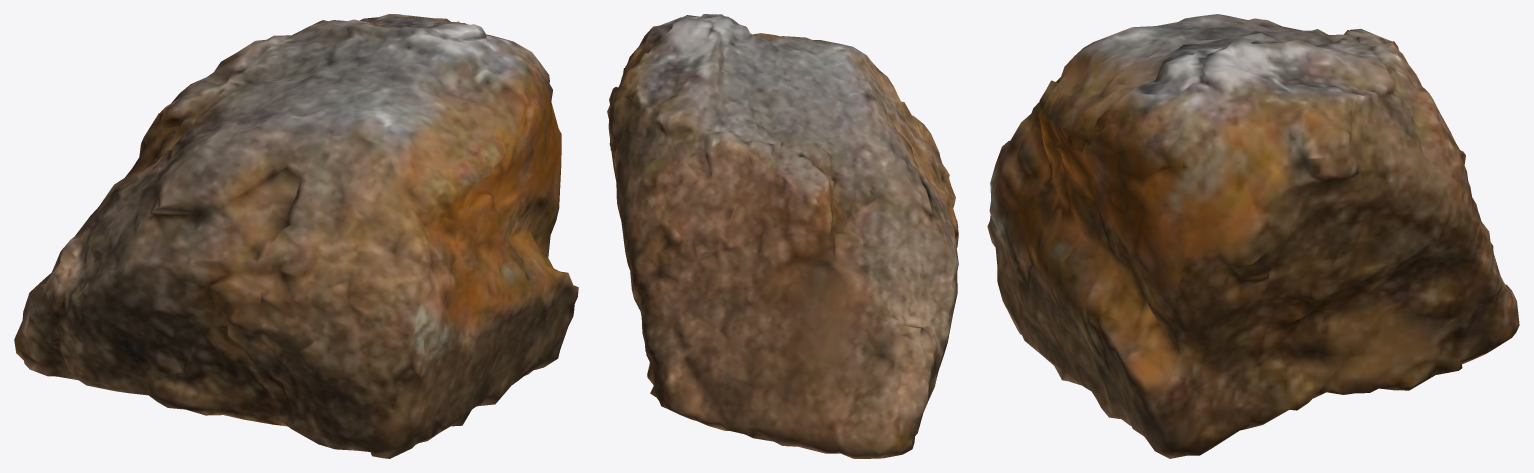
The model's file is ph-namaqualand-boulder-04.lod1.glb.
The picture shows the model from 3 angles, left to right: view 1: azimuth 30°, elevation 25°; view 2: azimuth 150°, elevation 25°; view 3: azimuth 270°, elevation 25°; orthographic projection. The views are drawn at different scales.
Parts seen in each view (by area): view 1: boulder_04; view 2: boulder_04; view 3: boulder_04.
Boxes of the visible parts, x1,y1,x2,y2 form: boulder_04: (14, 14, 578, 458); boulder_04: (607, 14, 958, 458); boulder_04: (987, 14, 1519, 458).
Bounding box in the file's own units: 2.52 × 1.9 × 2.49.
Materials: 1 (1 with a texture image).
